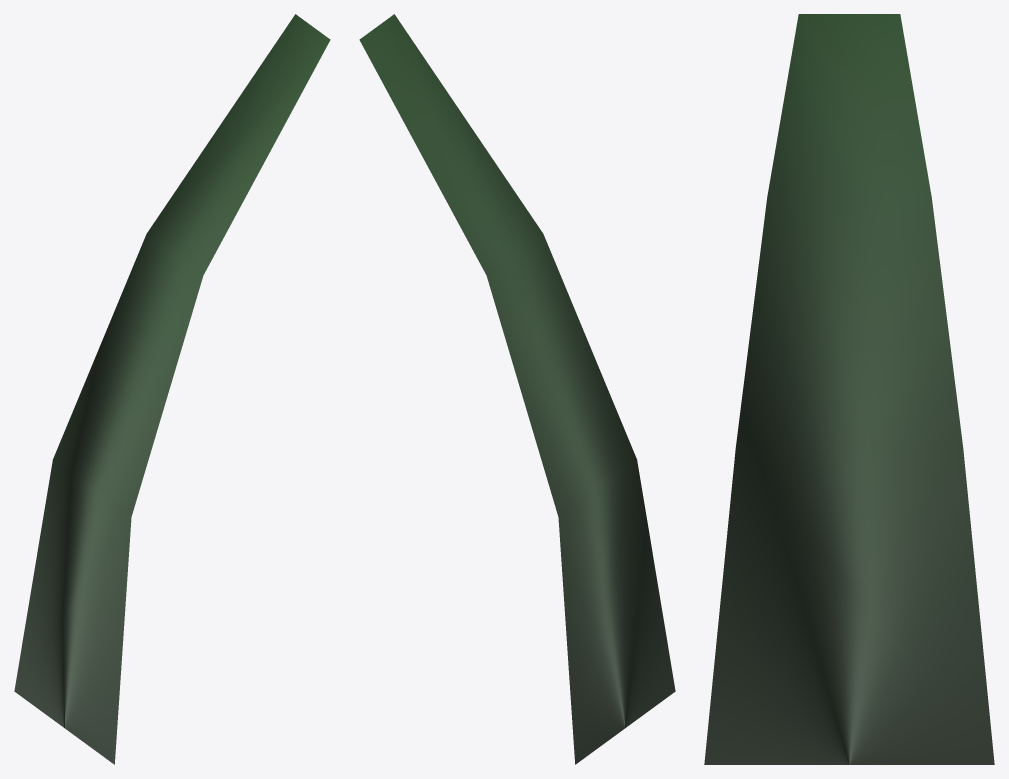
The model's file is Blade_Sedge_Wide.glb.
3 views of the same model, side by side, from view 1: azimuth 30°, elevation 25°; view 2: azimuth 150°, elevation 25°; view 3: azimuth 270°, elevation 25° (orthographic). The views are drawn at different scales.
Visible parts, largest first — view 1: Blade_Sedge_Wide; view 2: Blade_Sedge_Wide; view 3: Blade_Sedge_Wide.
Boxes of the visible parts, x1,y1,x2,y2 form: Blade_Sedge_Wide: (14,14,330,764); Blade_Sedge_Wide: (359,14,675,764); Blade_Sedge_Wide: (704,14,994,764).
Size of the model in its own units: 0.05 by 0.1232 by 0.035.
